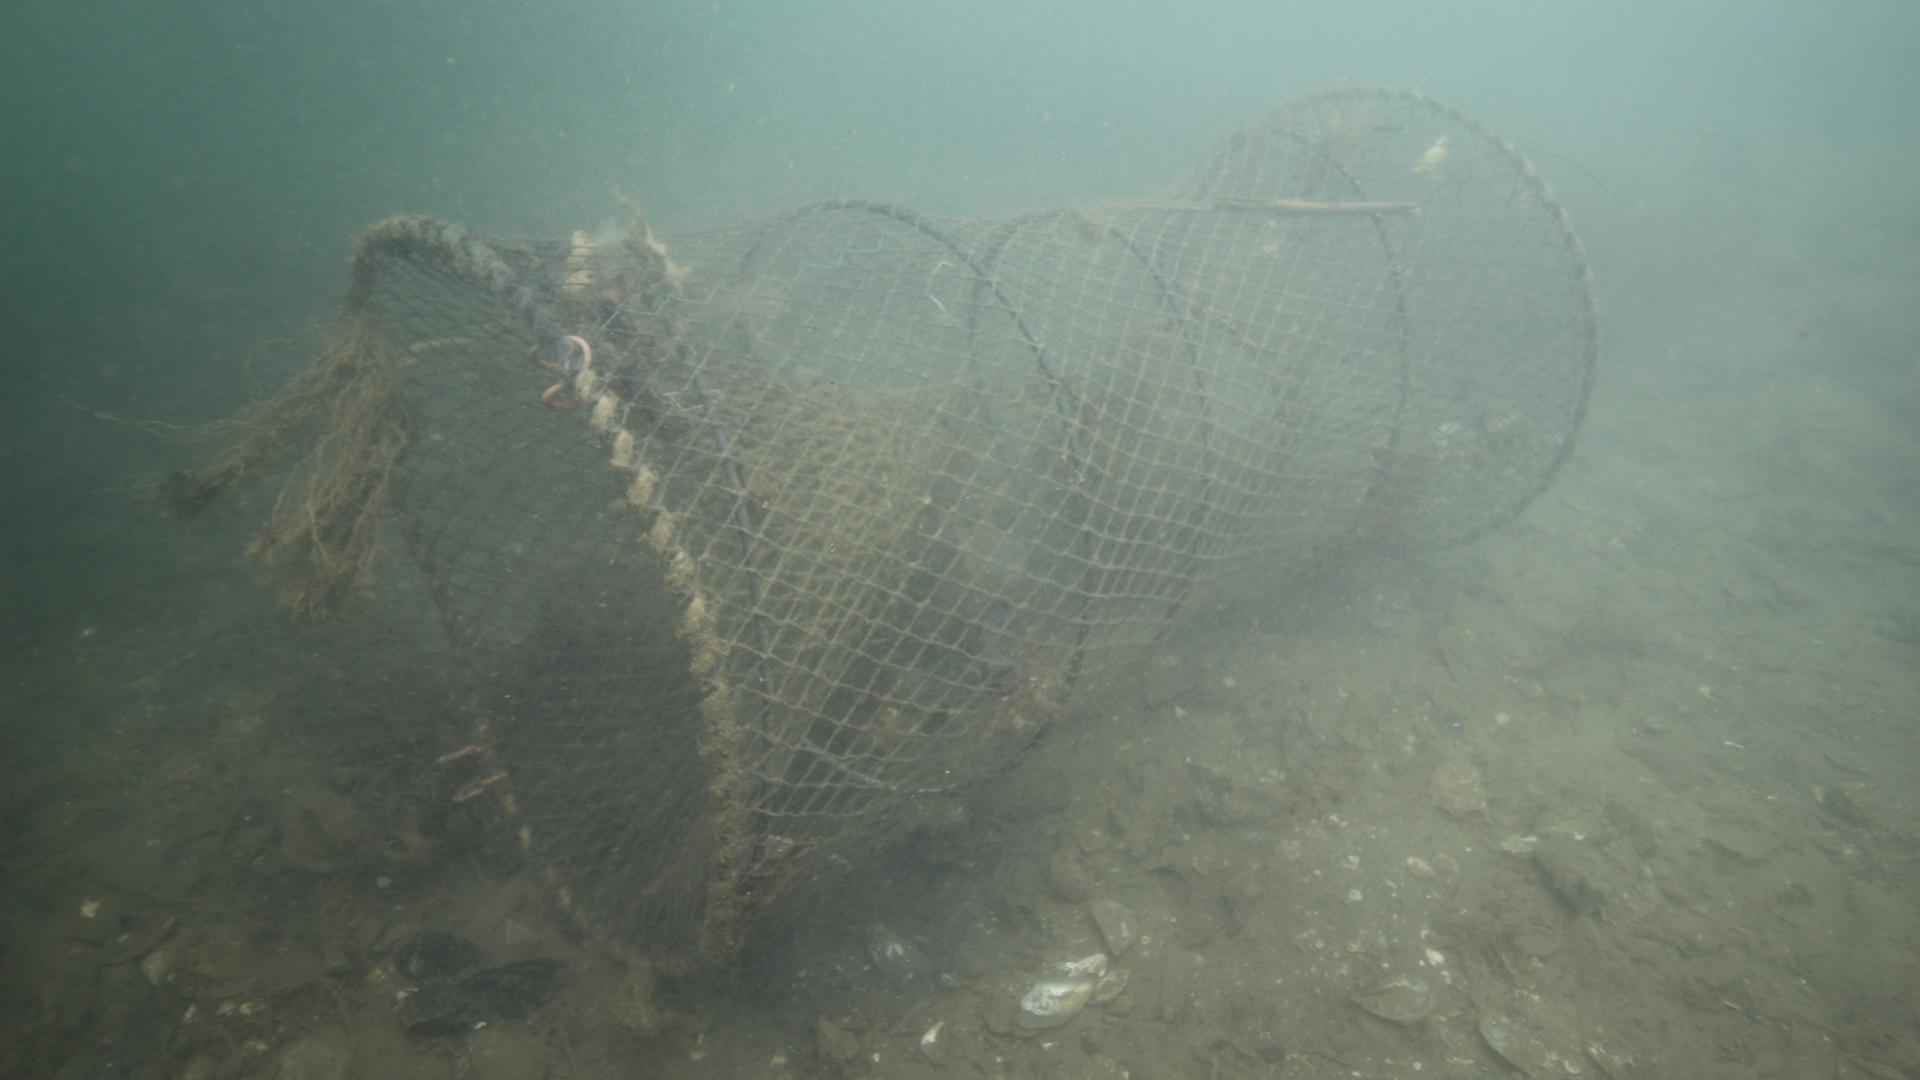spring fish trap: (342, 83, 1596, 985)
